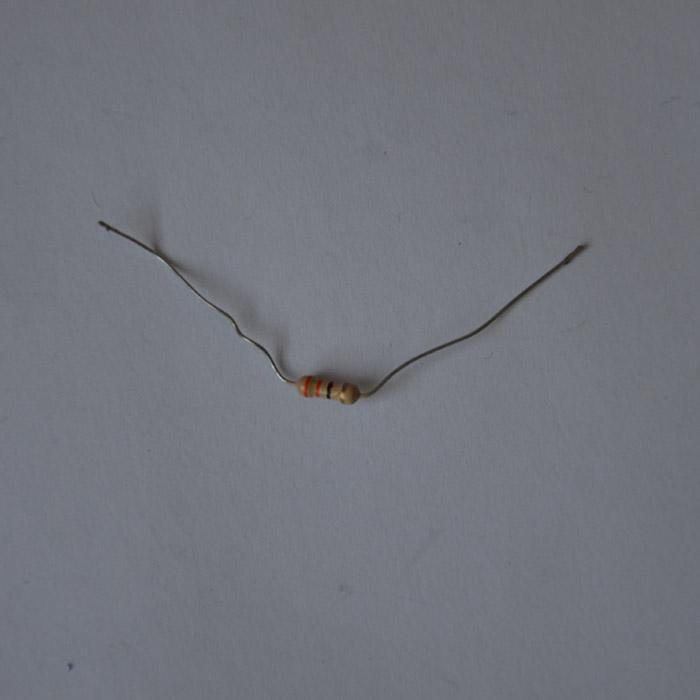resistor: (295, 374, 359, 404)
